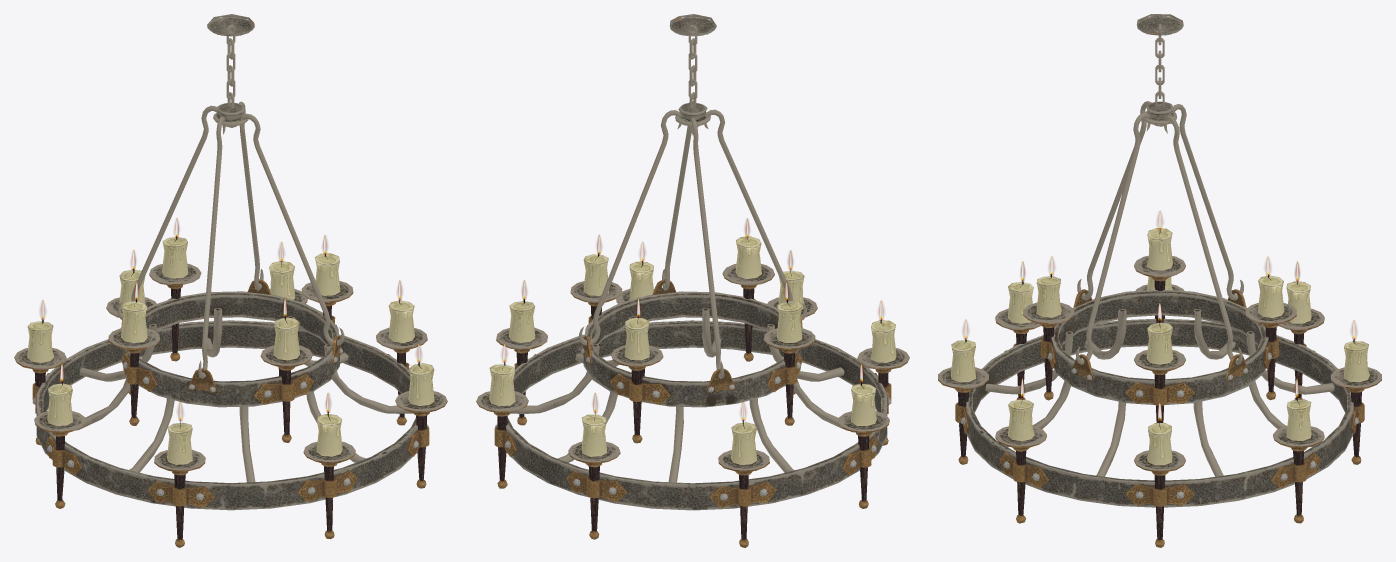
File: pian_medieval_chandelier.glb
3 views of the same model, side by side, from view 1: azimuth 30°, elevation 25°; view 2: azimuth 150°, elevation 25°; view 3: azimuth 270°, elevation 25° (orthographic).
Visible parts, largest first — view 1: group42_Chandelier_SHD_0; view 2: group42_Chandelier_SHD_0; view 3: group42_Chandelier_SHD_0.
Part boxes in pixels (x1=…): group42_Chandelier_SHD_0: x1=14, y1=14, x2=447, y2=547; group42_Chandelier_SHD_0: x1=476, y1=14, x2=909, y2=547; group42_Chandelier_SHD_0: x1=938, y1=14, x2=1381, y2=547.
Bounding box in the file's own units: 0.8204 × 0.9005 × 0.8204.
Materials: 2 (2 with a texture image).
